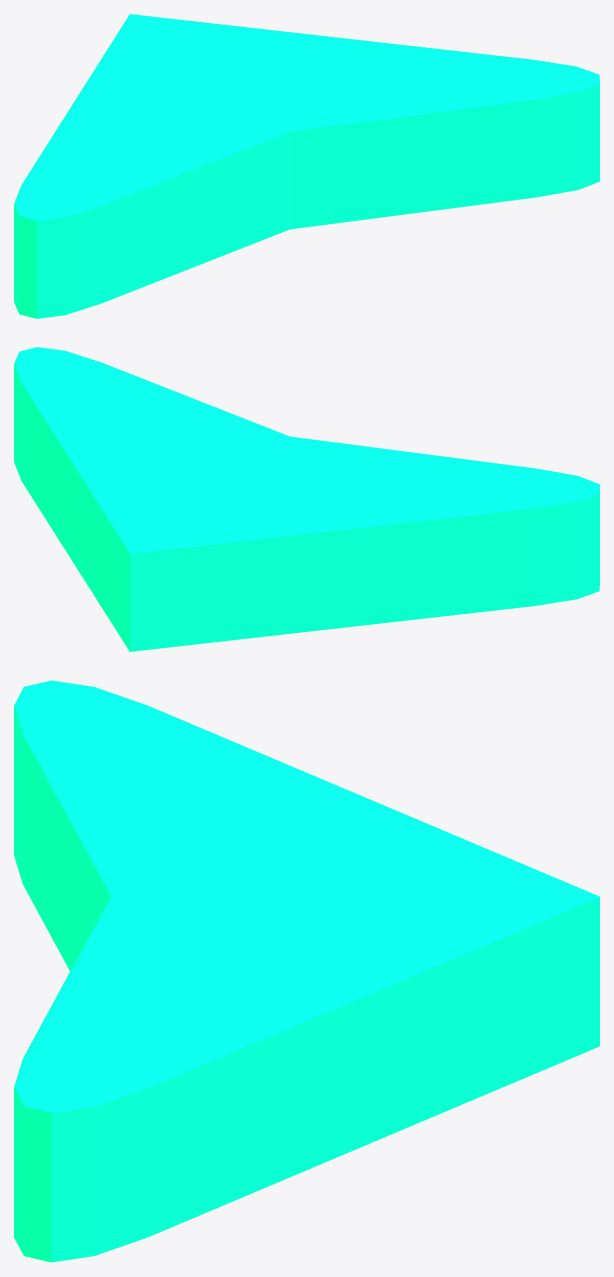
The model's file is arrow.glb.
The picture shows the model from 3 angles, top to bottom: view 1: azimuth 30°, elevation 25°; view 2: azimuth 150°, elevation 25°; view 3: azimuth 270°, elevation 25°; orthographic projection. The views are drawn at different scales.
Visible parts, largest first — view 1: Cube.008; view 2: Cube.008; view 3: Cube.008.
Part boxes in pixels (x1=…): Cube.008: x1=14, y1=14, x2=599, y2=318; Cube.008: x1=14, y1=347, x2=599, y2=651; Cube.008: x1=14, y1=680, x2=599, y2=1262.
Bounding box in the file's own units: 1.08 × 0.1752 × 0.6186.
